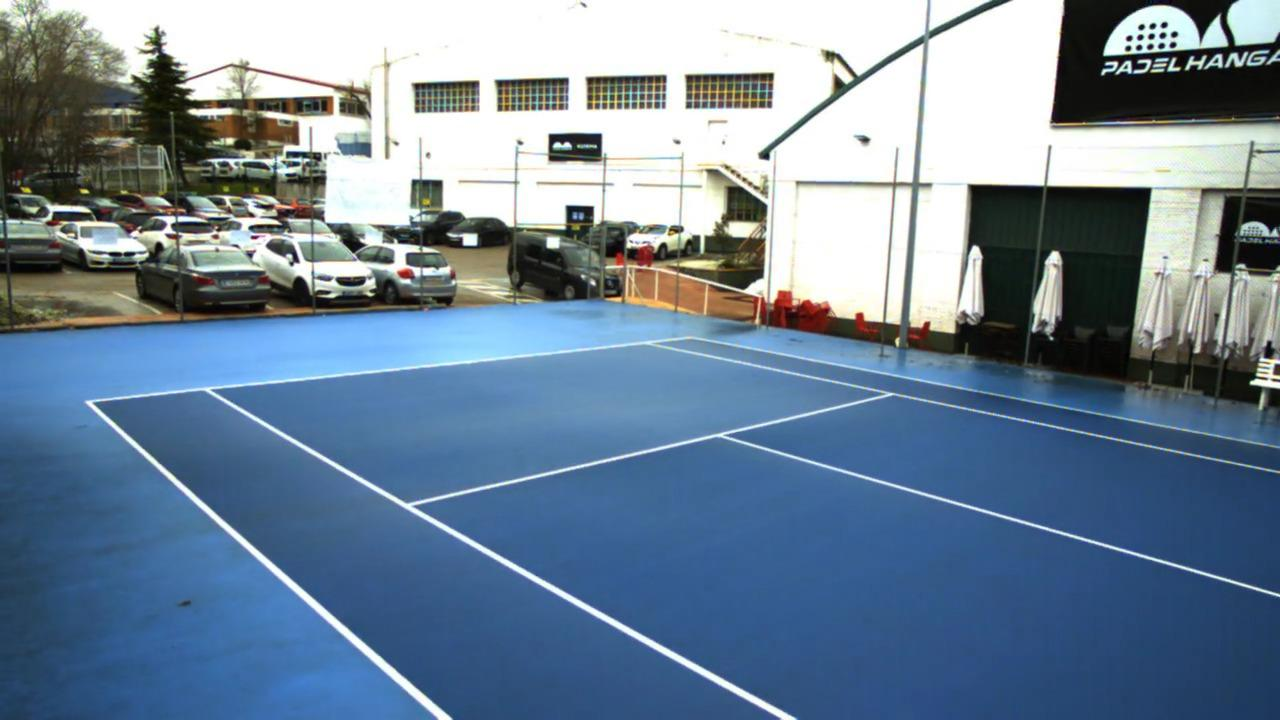cancha_tenis: (207, 340, 1280, 720)
point_f1: (196, 377, 222, 400)
point_f2: (630, 332, 670, 354)
point_i1: (393, 488, 429, 519)
point_i2: (873, 384, 907, 405)
point_ic1: (705, 423, 744, 449)
